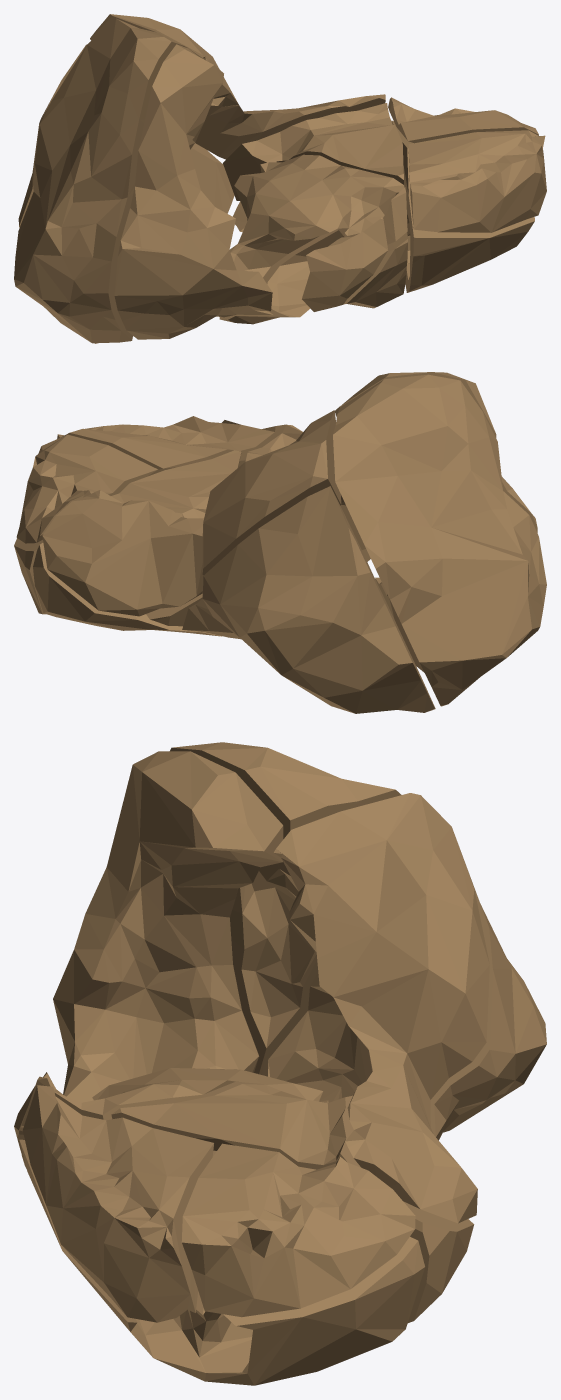
The model's file is SM_LP_FossilNode_2_Pieces.fbx.
The picture shows the model from 3 angles, top to bottom: view 1: azimuth 30°, elevation 25°; view 2: azimuth 150°, elevation 25°; view 3: azimuth 270°, elevation 25°; orthographic projection. The views are drawn at different scales.
Visible parts, largest first — view 1: SM_LP_FossilNode_2_Pieces_1, SM_LP_FossilNode_2_Pieces_2, SM_LP_FossilNode_2_Pieces_4, SM_LP_FossilNode_2_Pieces_10, SM_LP_FossilNode_2_Pieces_8, SM_LP_FossilNode_2_Pieces_6, SM_LP_FossilNode_2_Pieces_7, SM_LP_FossilNode_2_Pieces_9, SM_LP_FossilNode_2_Pieces_5, SM_LP_FossilNode_2_Pieces_11, SM_LP_FossilNode_2_Pieces_3; view 2: SM_LP_FossilNode_2_Pieces_1, SM_LP_FossilNode_2_Pieces_3, SM_LP_FossilNode_2_Pieces_6, SM_LP_FossilNode_2_Pieces_11, SM_LP_FossilNode_2_Pieces_10, SM_LP_FossilNode_2_Pieces_8, SM_LP_FossilNode_2_Pieces_7, SM_LP_FossilNode_2_Pieces_2, SM_LP_FossilNode_2_Pieces_9, SM_LP_FossilNode_2_Pieces_4; view 3: SM_LP_FossilNode_2_Pieces_6, SM_LP_FossilNode_2_Pieces_2, SM_LP_FossilNode_2_Pieces_11, SM_LP_FossilNode_2_Pieces_10, SM_LP_FossilNode_2_Pieces_9, SM_LP_FossilNode_2_Pieces_1, SM_LP_FossilNode_2_Pieces_3, SM_LP_FossilNode_2_Pieces_8, SM_LP_FossilNode_2_Pieces_4, SM_LP_FossilNode_2_Pieces_7.
Boxes of the visible parts, x1,y1,x2,y2 form: SM_LP_FossilNode_2_Pieces_1: (14, 18, 182, 343); SM_LP_FossilNode_2_Pieces_2: (114, 44, 272, 339); SM_LP_FossilNode_2_Pieces_4: (229, 154, 407, 277); SM_LP_FossilNode_2_Pieces_10: (408, 130, 546, 232); SM_LP_FossilNode_2_Pieces_8: (223, 103, 403, 200); SM_LP_FossilNode_2_Pieces_6: (90, 14, 385, 159); SM_LP_FossilNode_2_Pieces_7: (219, 201, 407, 324); SM_LP_FossilNode_2_Pieces_9: (391, 120, 534, 292); SM_LP_FossilNode_2_Pieces_5: (302, 217, 387, 311); SM_LP_FossilNode_2_Pieces_11: (388, 97, 538, 143); SM_LP_FossilNode_2_Pieces_3: (18, 44, 234, 343); SM_LP_FossilNode_2_Pieces_1: (333, 374, 546, 706); SM_LP_FossilNode_2_Pieces_3: (182, 486, 435, 713); SM_LP_FossilNode_2_Pieces_6: (42, 410, 341, 616); SM_LP_FossilNode_2_Pieces_11: (16, 434, 157, 543); SM_LP_FossilNode_2_Pieces_10: (57, 416, 286, 476); SM_LP_FossilNode_2_Pieces_8: (111, 450, 241, 626); SM_LP_FossilNode_2_Pieces_7: (33, 543, 221, 636); SM_LP_FossilNode_2_Pieces_2: (334, 372, 537, 672); SM_LP_FossilNode_2_Pieces_9: (14, 538, 45, 614); SM_LP_FossilNode_2_Pieces_4: (245, 424, 302, 461); SM_LP_FossilNode_2_Pieces_6: (273, 793, 489, 1223); SM_LP_FossilNode_2_Pieces_2: (53, 751, 283, 1102); SM_LP_FossilNode_2_Pieces_11: (181, 1143, 415, 1317); SM_LP_FossilNode_2_Pieces_10: (22, 1085, 213, 1322); SM_LP_FossilNode_2_Pieces_9: (19, 1139, 424, 1385); SM_LP_FossilNode_2_Pieces_1: (170, 742, 401, 1074); SM_LP_FossilNode_2_Pieces_3: (262, 903, 546, 1140); SM_LP_FossilNode_2_Pieces_8: (111, 1084, 361, 1169); SM_LP_FossilNode_2_Pieces_4: (21, 1068, 328, 1127); SM_LP_FossilNode_2_Pieces_7: (17, 1134, 474, 1322).
Bounding box in the file's own units: 1.33 × 0.7707 × 0.8686.
